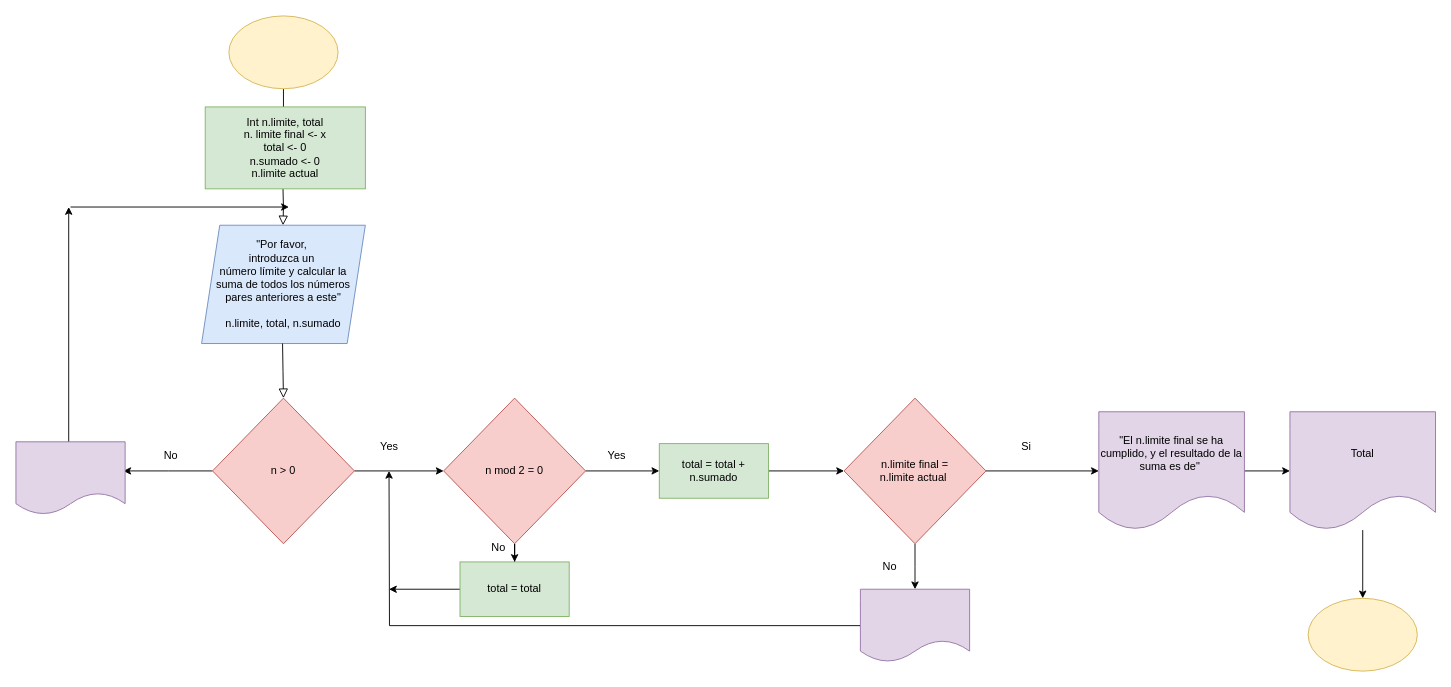
Image size: 1451x687. Some labels were removed from this diagram. The box of each missing label's shape, as (x1, y1, x2, y2) in pixels:
"Aún no se ha llegado al n.total final": (859, 588, 970, 662)
"El número debe ser mayor que 0": (15, 441, 125, 515)
FIn: (1307, 597, 1417, 671)
Inicio: (228, 15, 338, 89)
